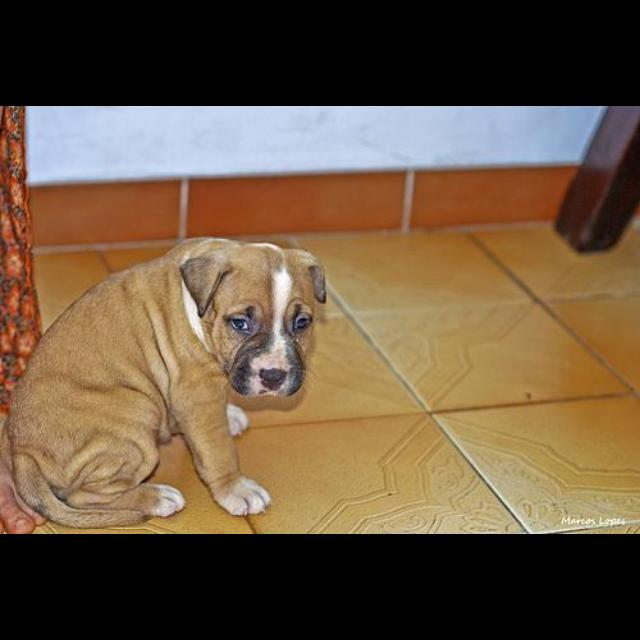amstaff: (1, 237, 327, 533)
